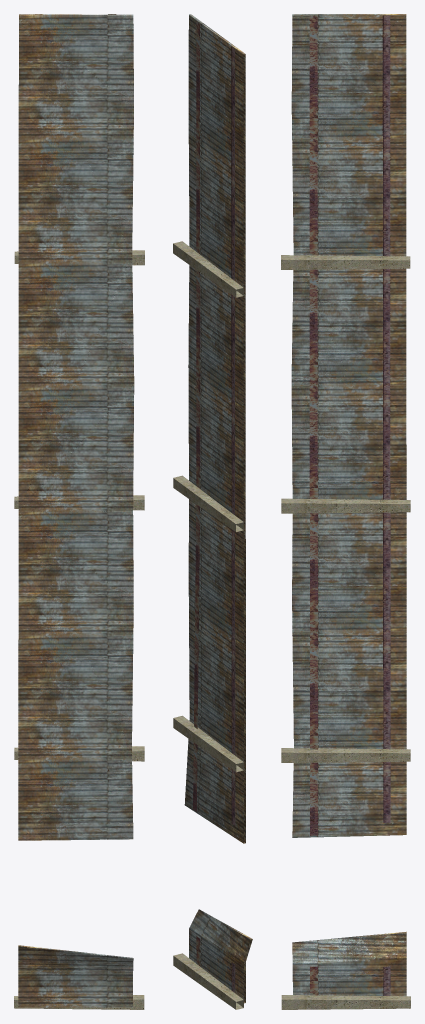
The model's file is zaun_blech_lang.obj.
The picture shows the model from 3 angles, left to right: view 1: azimuth 90°, elevation 25°; view 2: azimuth 210°, elevation 25°; view 3: azimuth 270°, elevation 25°; orthographic projection. The views are drawn at different scales.
Visible parts, largest first — view 1: Object011; view 2: Object011; view 3: Object011.
Part boxes in pixels (<box>): Object011: <box>14,14,144,1009</box>; Object011: <box>173,14,252,1009</box>; Object011: <box>281,14,410,1009</box>.
Size of the model in its own units: 0.7128 by 30.62 by 3.64.
Materials: 3 (3 with a texture image).
